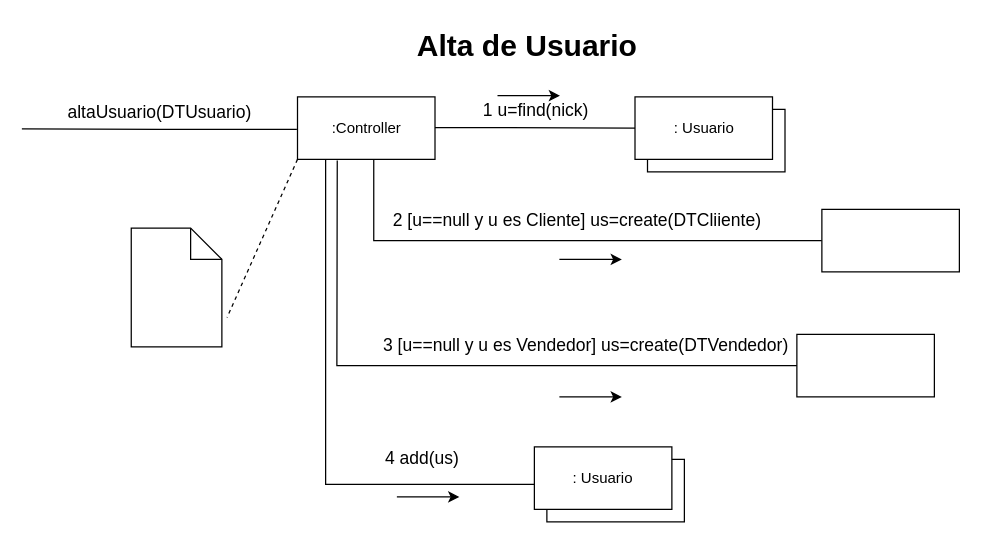
Some shapes in this 981 by 544 pixel diagram are drawn without their labels. Each missing label, with the centre of its shape:
: Cliente: (890,240)
: Vendedor: (865,365)
Si u!=null, se retorna mensaje de error: (176,287)
